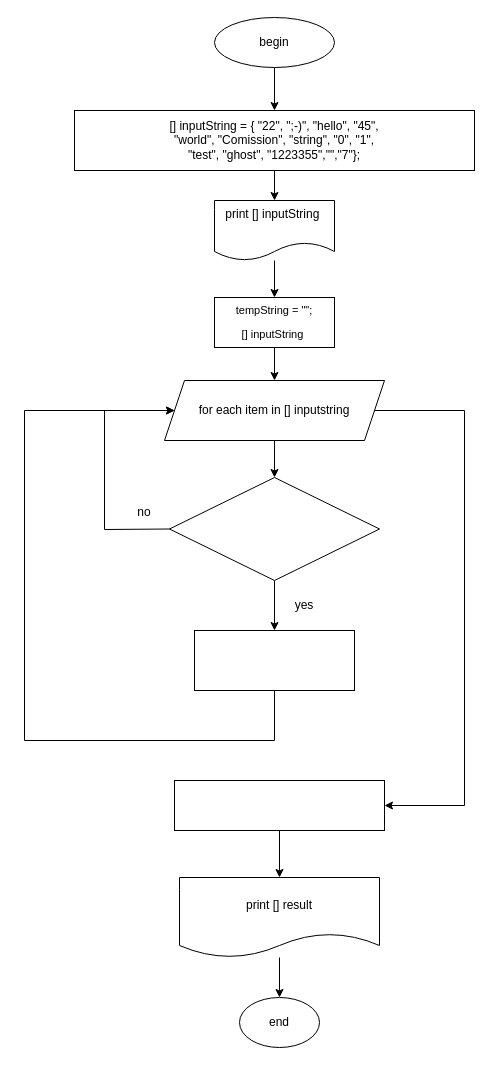
Image size: 492x1065. Some labels were removed from this diagram. Here are the shapes that lost their labels. From the top down, the centre of each, then its label:
(x=274, y=528): if item.lenght <=3 & item!=""
(x=274, y=660): tempString += item; tempString += " ";
(x=279, y=805): [] result = tempString.split(" ");
